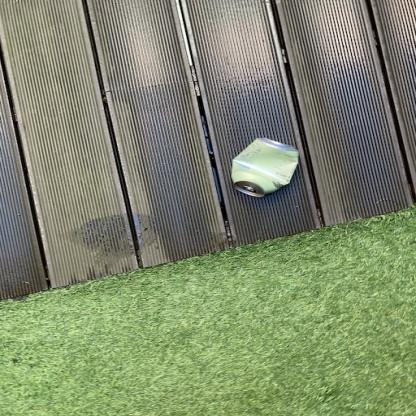Aerosols: (211, 127, 317, 206)
